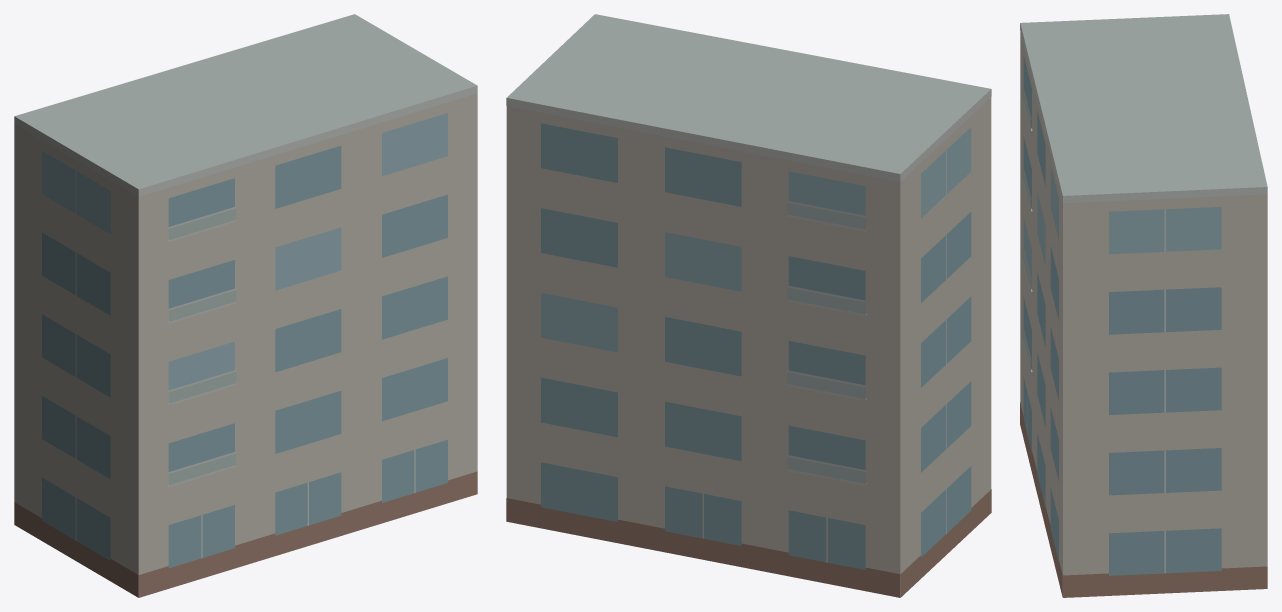
The model's file is survey-upis-32608224.glb.
3 views of the same model, side by side, from view 1: azimuth 30°, elevation 25°; view 2: azimuth 150°, elevation 25°; view 3: azimuth 270°, elevation 25° (orthographic). The views are drawn at different scales.
Visible parts, largest first — view 1: survey-upis-32608224.tmp; view 2: survey-upis-32608224.tmp; view 3: survey-upis-32608224.tmp.
Boxes of the visible parts, x1,y1,x2,y2 form: survey-upis-32608224.tmp: (14,14,477,597); survey-upis-32608224.tmp: (506,14,991,597); survey-upis-32608224.tmp: (1020,14,1267,597).
Size of the model in its own units: 12.92 by 13.3 by 7.43.
